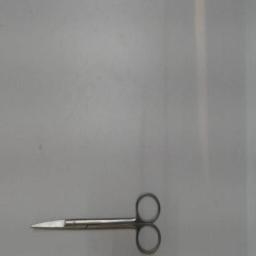Curved Mayo Scissors: (28, 188, 164, 254)
